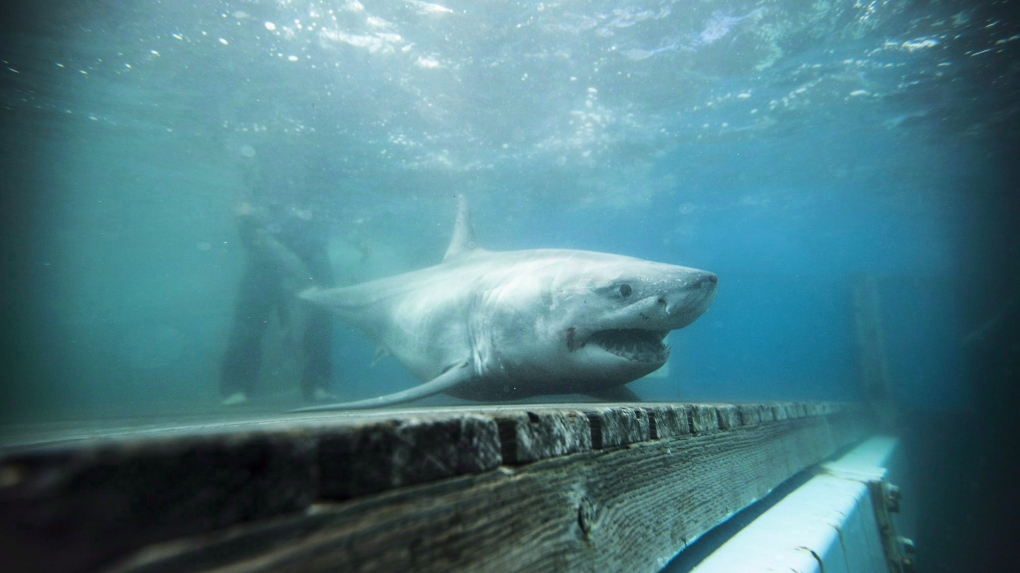shark: (268, 199, 723, 420)
